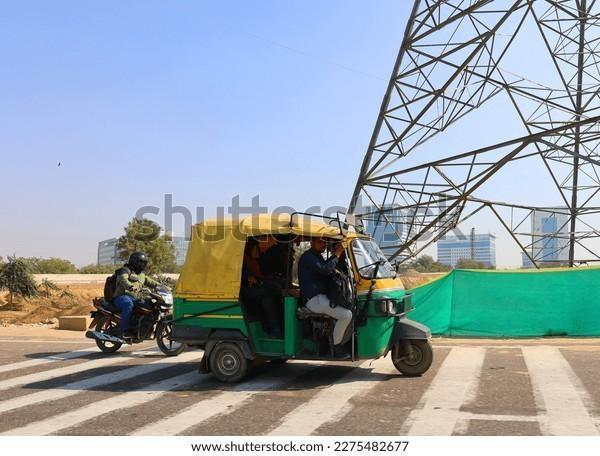keke: (165, 199, 434, 394)
